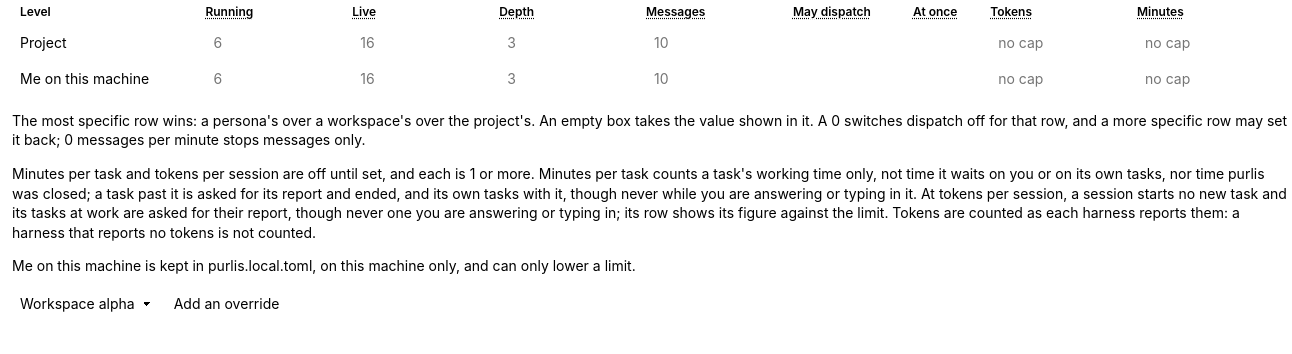
Test case: Settings › Project › Dispatch › sends what is not a number as it was typed, for the core to refuse
Type "deep" into the field named "Depth for the project".
click(549, 43); type("deep")  # box [499,29,598,57]
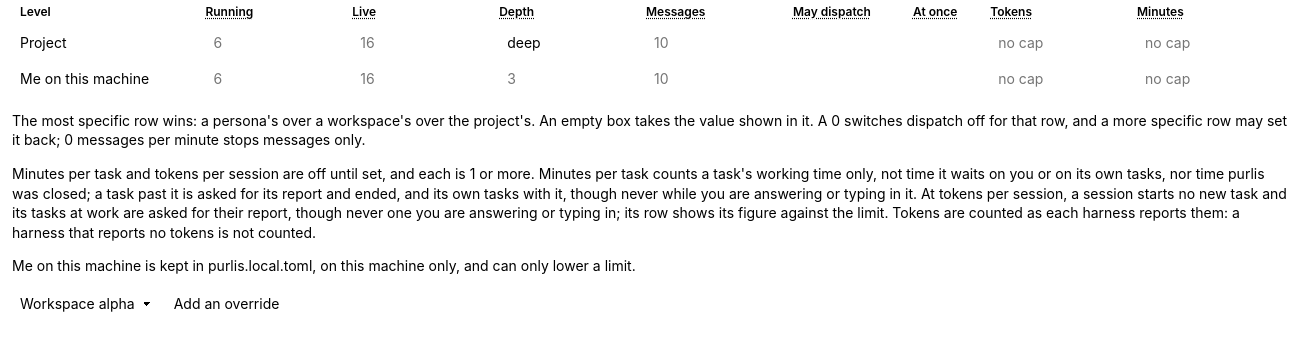
Leave the field named "Depth for the project", box [499,29,598,57]
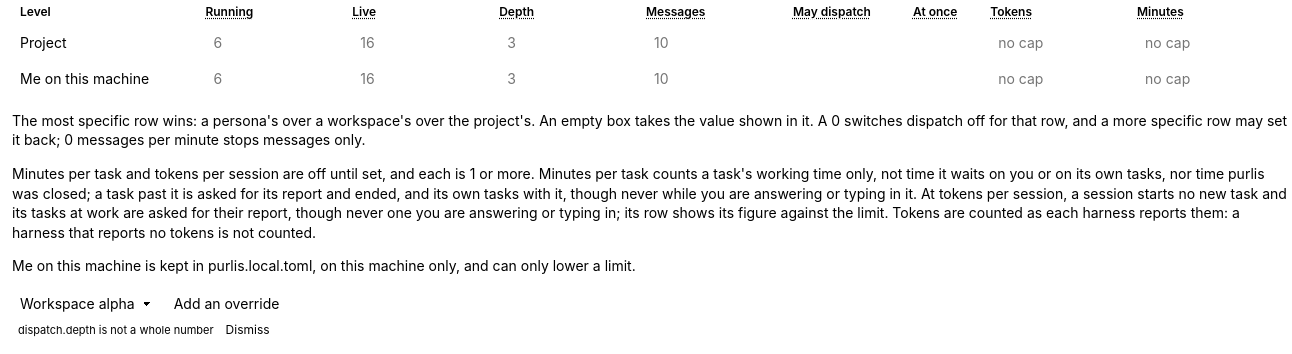
Result: the text "dispatch.depth is not a whole number" is shown at [18,323,214,337]
